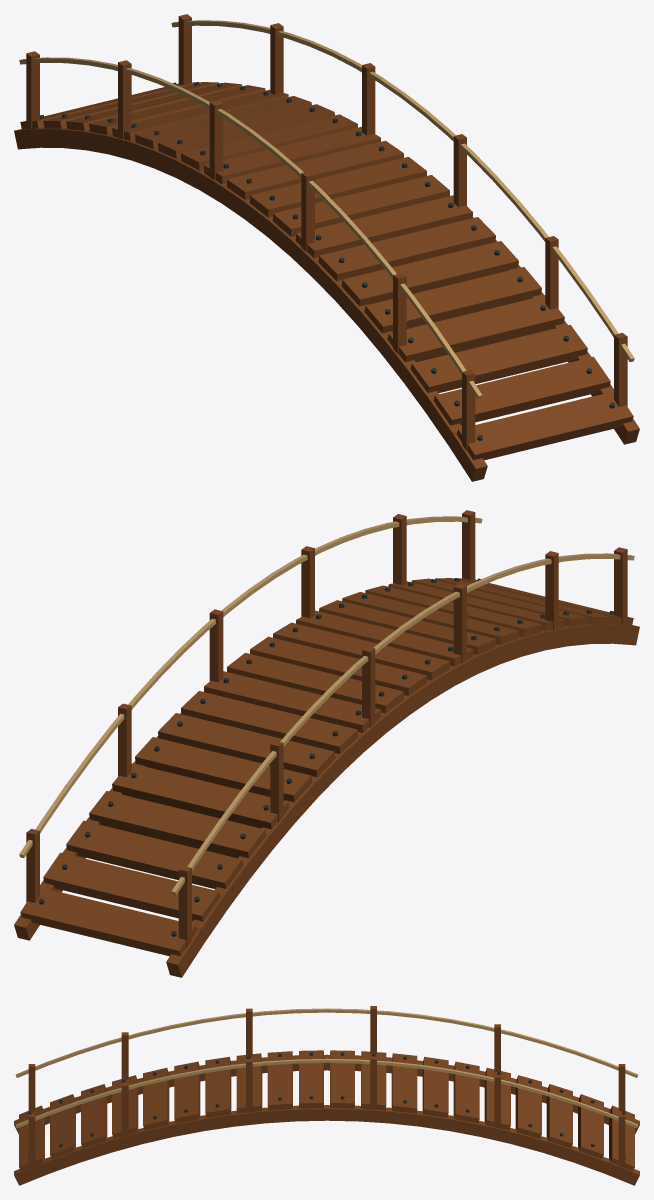
The model's file is MOV_BRIDGE_ASSEMBLED_20_02.obj.
The picture shows the model from 3 angles, top to bottom: view 1: azimuth 30°, elevation 25°; view 2: azimuth 150°, elevation 25°; view 3: azimuth 270°, elevation 25°; orthographic projection. The views are drawn at different scales.
Parts seen in each view (by area): view 1: Part_143, Part_129, Part_136, Part_120, Part_113, Part_106, Part_99, Part_90, Part_83, Part_76, Part_69, Part_60 (+21 smaller); view 2: Part_0, Part_16, Part_23, Part_9, Part_30, Part_39, Part_46, Part_53, Part_60, Part_69, Part_76, Part_83 (+21 smaller); view 3: Part_53, Part_46, Part_99, Part_39, Part_106, Part_113, Part_23, Part_16, Part_129, Part_83, Part_9, Part_136 (+40 smaller).
Part boxes in pixels (x1=…): Part_143: x1=456, y1=391, x2=633, y2=460; Part_129: x1=410, y1=324, x2=587, y2=392; Part_136: x1=433, y1=356, x2=610, y2=425; Part_120: x1=387, y1=295, x2=564, y2=362; Part_113: x1=364, y1=267, x2=541, y2=333; Part_106: x1=341, y1=241, x2=518, y2=306; Part_99: x1=318, y1=217, x2=495, y2=281; Part_90: x1=295, y1=195, x2=472, y2=257; Part_83: x1=272, y1=175, x2=449, y2=236; Part_76: x1=250, y1=157, x2=426, y2=217; Part_69: x1=227, y1=140, x2=403, y2=199; Part_60: x1=204, y1=126, x2=380, y2=184; Part_0: x1=20, y1=887, x2=197, y2=956; Part_16: x1=66, y1=820, x2=243, y2=888; Part_23: x1=89, y1=791, x2=266, y2=858; Part_9: x1=43, y1=852, x2=220, y2=921; Part_30: x1=112, y1=763, x2=289, y2=829; Part_39: x1=135, y1=737, x2=312, y2=802; Part_46: x1=158, y1=713, x2=335, y2=777; Part_53: x1=181, y1=691, x2=358, y2=753; Part_60: x1=204, y1=671, x2=381, y2=732; Part_69: x1=227, y1=653, x2=403, y2=713; Part_76: x1=250, y1=636, x2=426, y2=695; Part_83: x1=273, y1=622, x2=449, y2=680; Part_53: x1=391, y1=1053, x2=417, y2=1113; Part_46: x1=422, y1=1056, x2=448, y2=1117; Part_99: x1=205, y1=1056, x2=231, y2=1117; Part_39: x1=453, y1=1061, x2=479, y2=1123; Part_106: x1=174, y1=1061, x2=200, y2=1123; Part_113: x1=143, y1=1067, x2=169, y2=1130; Part_23: x1=515, y1=1075, x2=541, y2=1138; Part_16: x1=546, y1=1084, x2=572, y2=1148; Part_129: x1=81, y1=1084, x2=107, y2=1148; Part_83: x1=267, y1=1051, x2=292, y2=1110; Part_9: x1=578, y1=1094, x2=603, y2=1158; Part_136: x1=50, y1=1094, x2=75, y2=1158.
Bounding box in the file's own units: 2.48 × 2.69 × 12.1.
